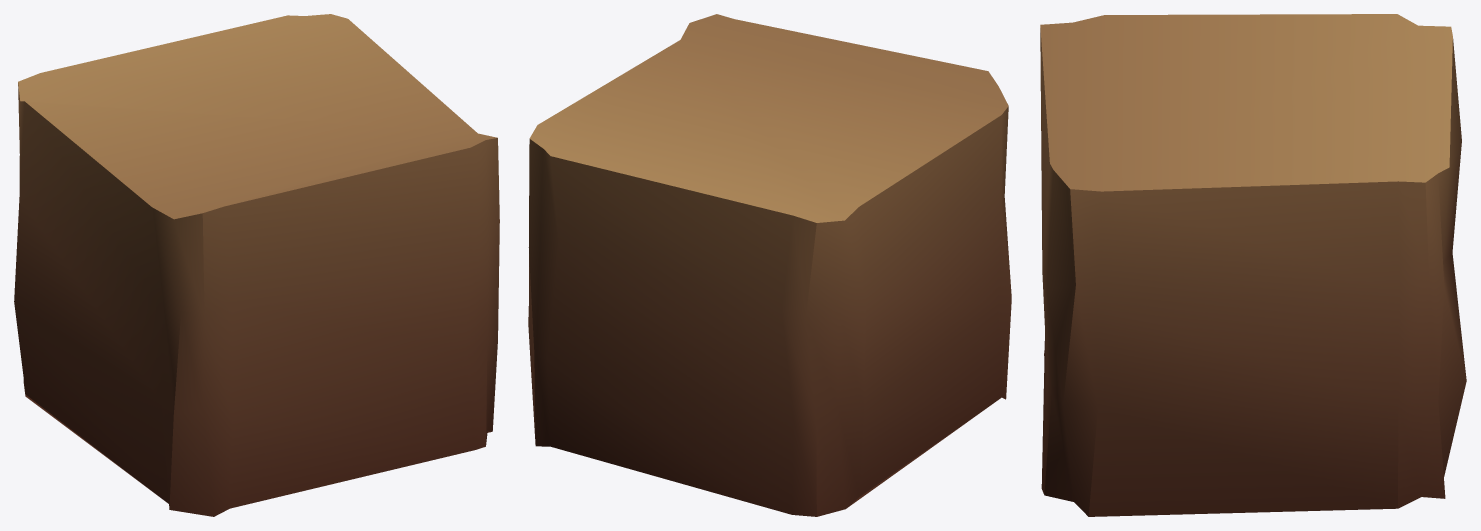
File: tronco cortado.fbx
3 renders of one model, left to right at view 1: azimuth 30°, elevation 25°; view 2: azimuth 150°, elevation 25°; view 3: azimuth 270°, elevation 25°, orthographic. The views are drawn at different scales.
Parts seen in each view (by area): view 1: Tronco Cortado; view 2: Tronco Cortado; view 3: Tronco Cortado.
Part boxes in pixels (<box>): Tronco Cortado: <box>14,14,499,516</box>; Tronco Cortado: <box>528,14,1011,516</box>; Tronco Cortado: <box>1040,14,1466,516</box>.
Size of the model in its own units: 106 by 92.6 by 106.
